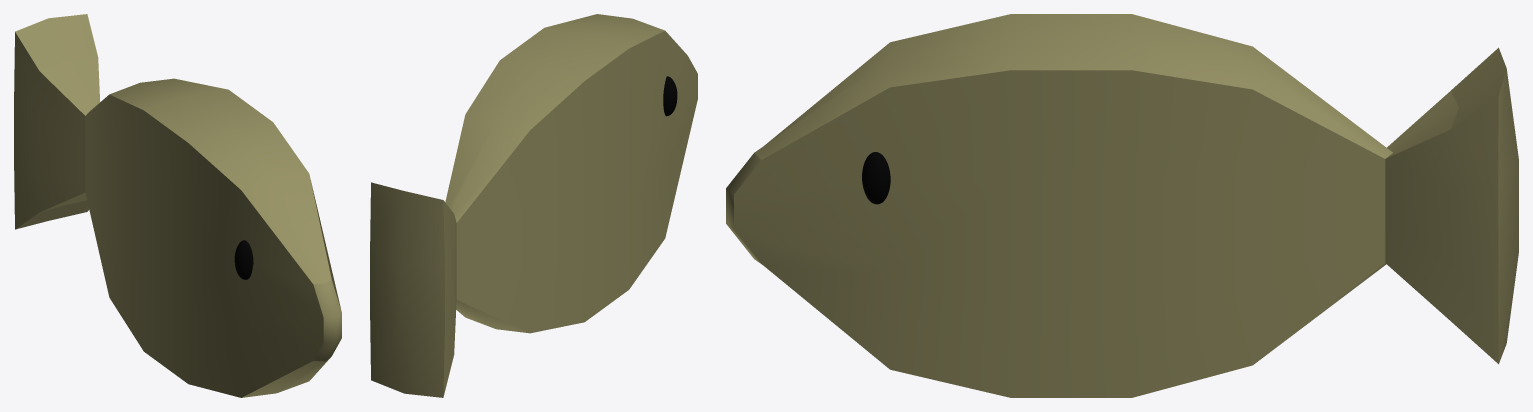
File: fish.fbx
3 views of the same model, side by side, from view 1: azimuth 30°, elevation 25°; view 2: azimuth 150°, elevation 25°; view 3: azimuth 270°, elevation 25° (orthographic). The views are drawn at different scales.
Visible parts, largest first — view 1: pCube1, pSphere2; view 2: pCube1, pSphere2; view 3: pCube1, pSphere1.
Part boxes in pixels (box(x1,y1,x2,y2)): pCube1: box(14, 14, 341, 397); pSphere2: box(234, 240, 253, 279); pCube1: box(370, 14, 697, 397); pSphere2: box(663, 76, 677, 116); pCube1: box(726, 14, 1518, 397); pSphere1: box(862, 152, 890, 204).
Size of the model in its own units: 3.16 by 8.78 by 18.8.
